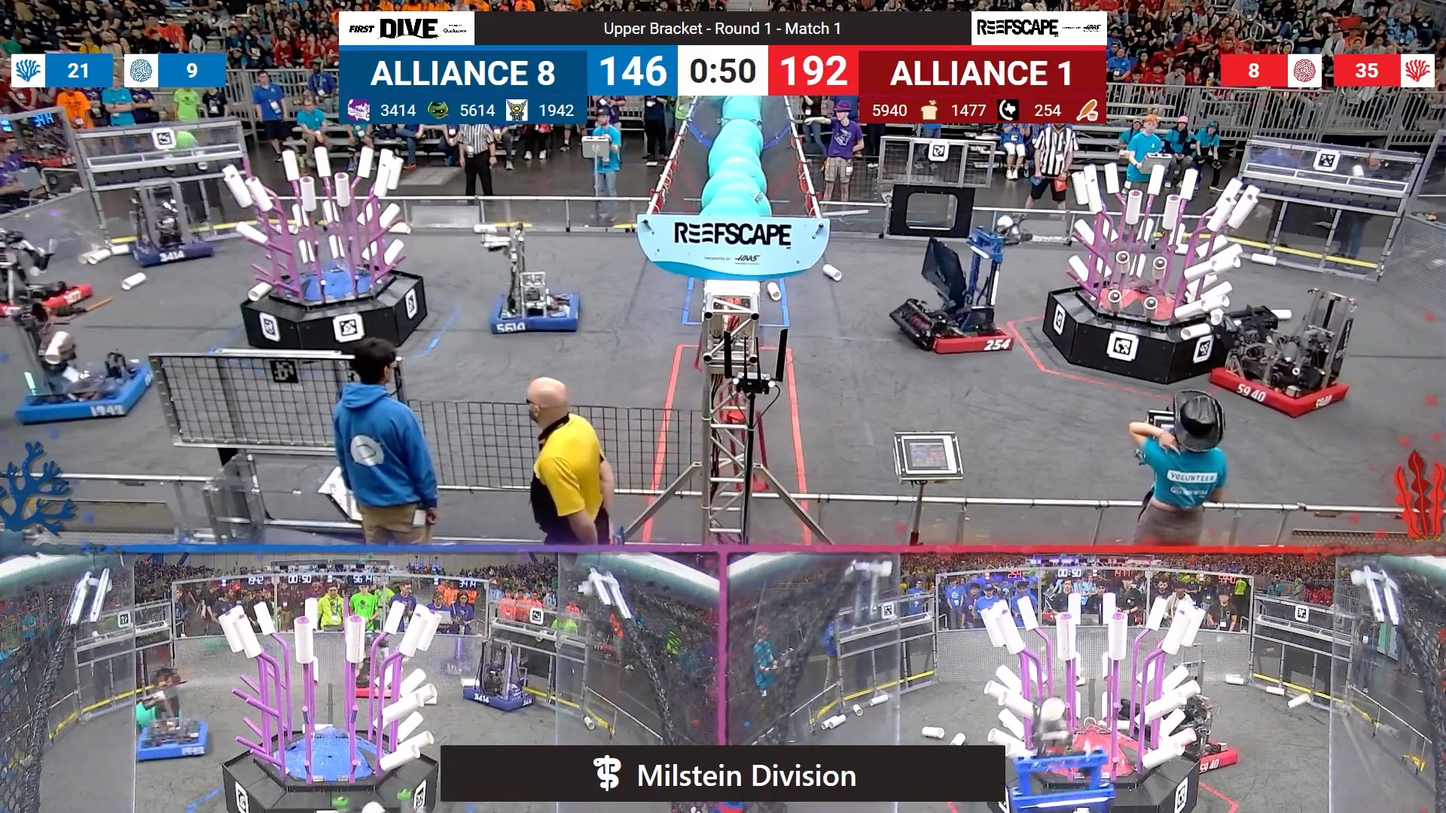bumpers: (6, 361, 154, 434), (1202, 355, 1359, 420), (896, 303, 1028, 364), (484, 289, 584, 340), (0, 271, 99, 322), (132, 715, 219, 770), (120, 234, 222, 273), (1175, 732, 1243, 775), (456, 682, 537, 717)
